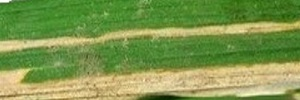RiceBacterialBlight: (1, 26, 299, 97)
